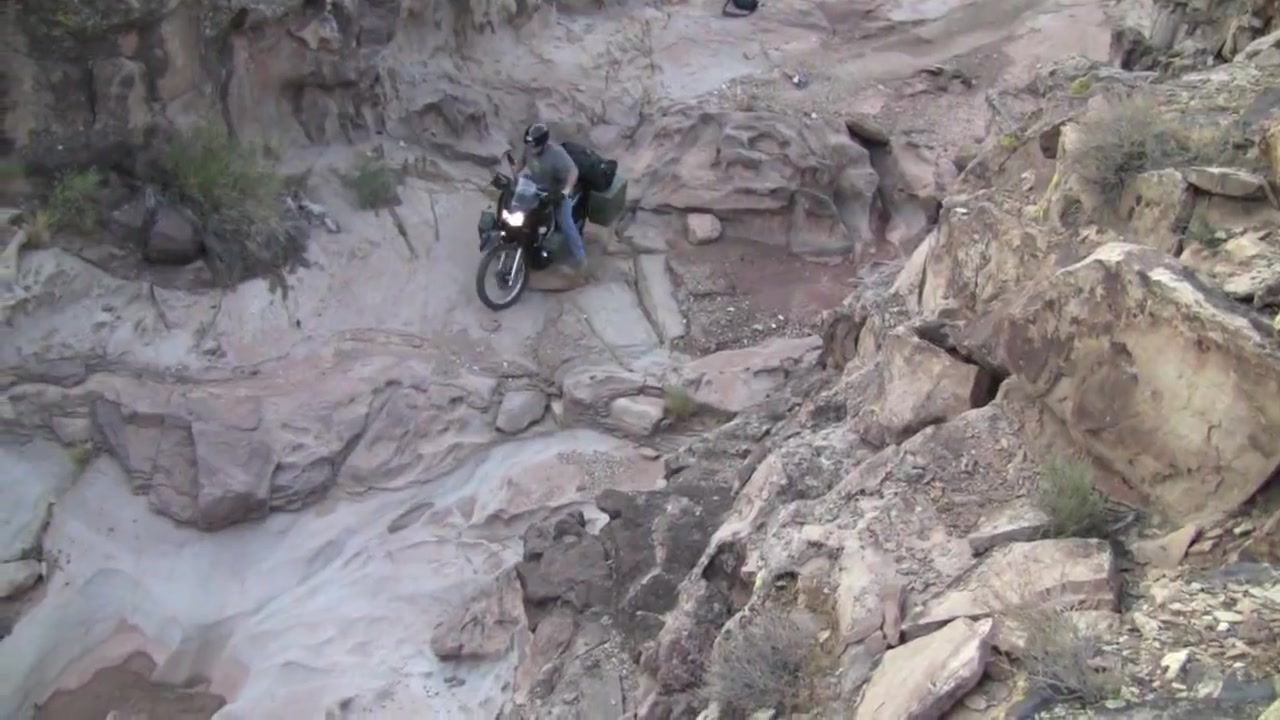motorbike: (474, 142, 627, 309)
